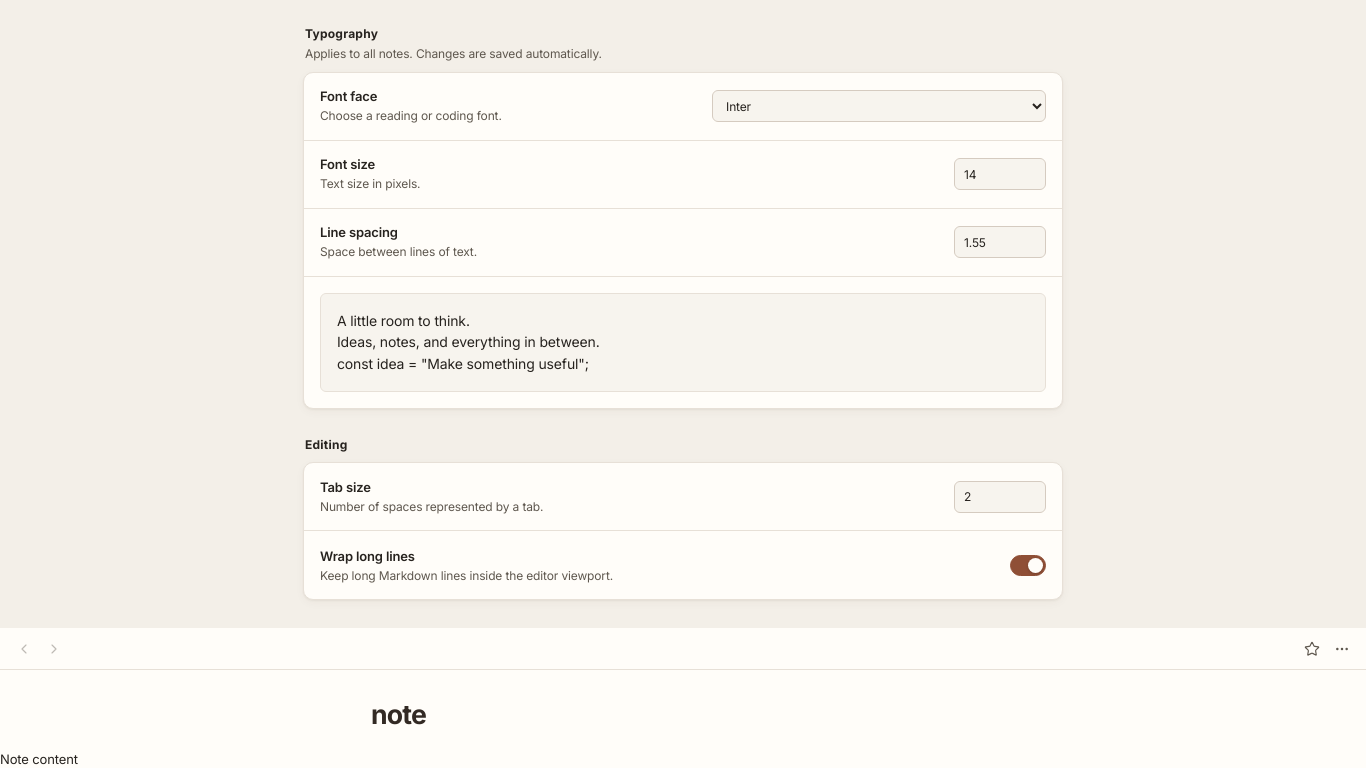
Note typography › shows a save failure, rolls back the appearance, and allows another attempt
(page scrolled)
Select "Lora" in the dropdown named "Editor font face": (879, 106) [712,90,1046,122]
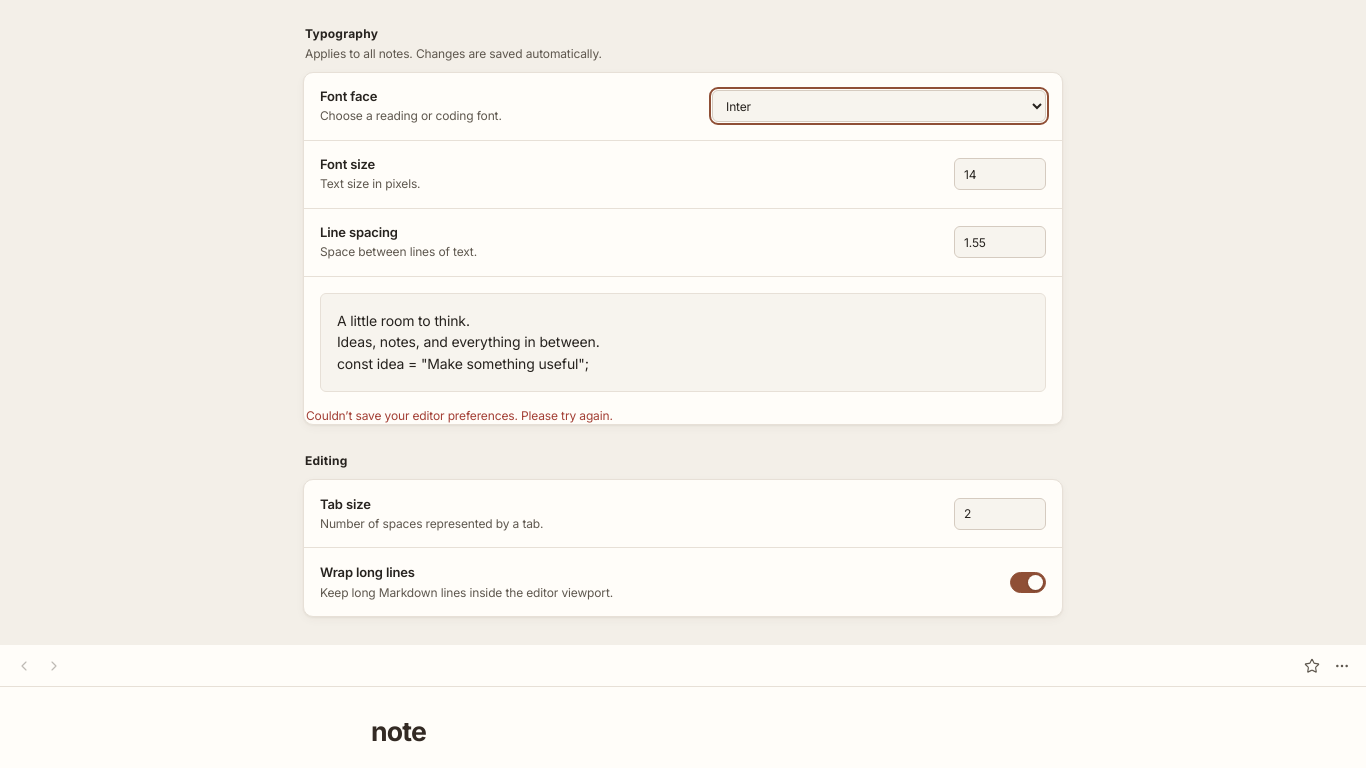
Result: the message shows "Couldn’t save" at [306,408,613,423]
Select "Lora" in the dropdown named "Editor font face": (879, 106) [712,90,1046,122]
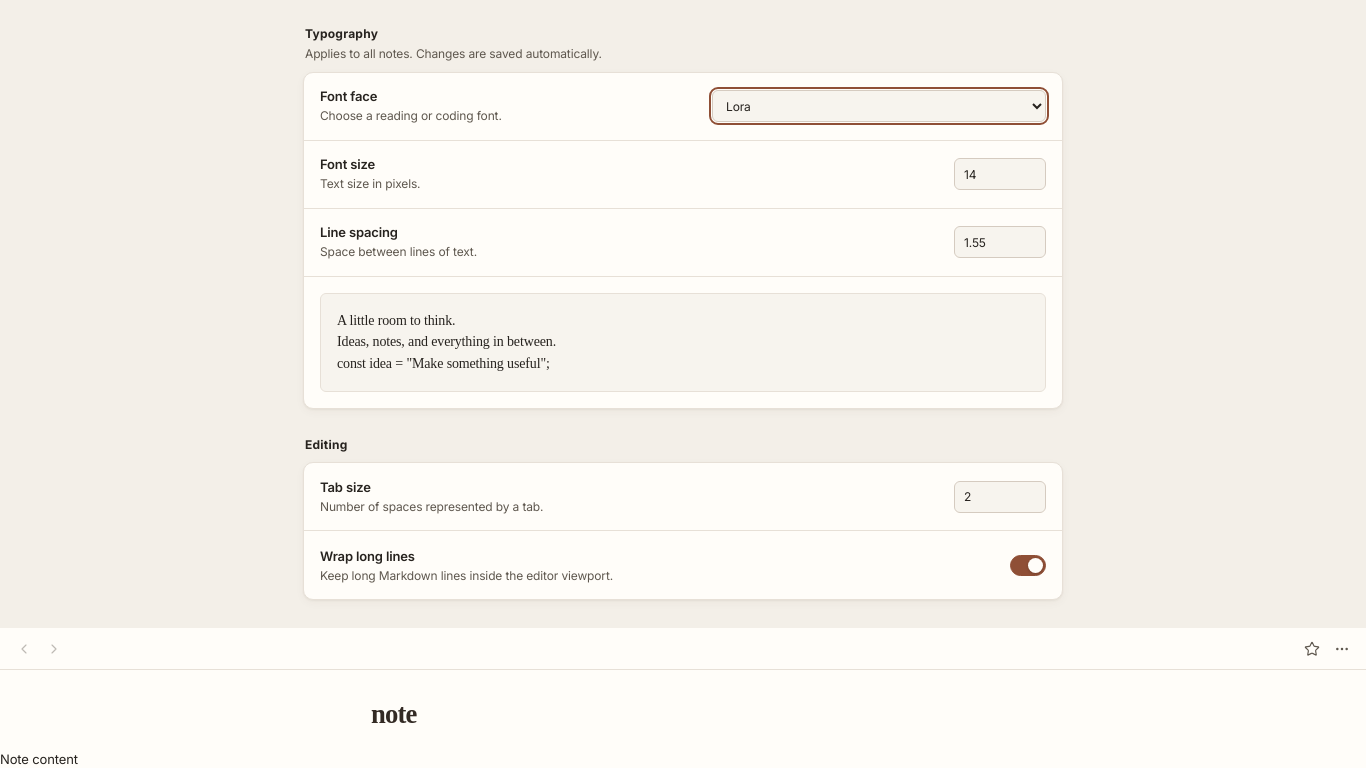
Result: the message "Couldn’t save your editor preferences. Please try again." is gone
